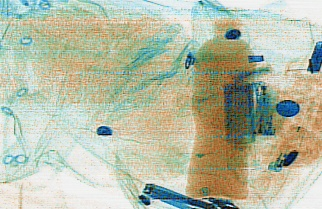lighter: (264, 127, 297, 172)
